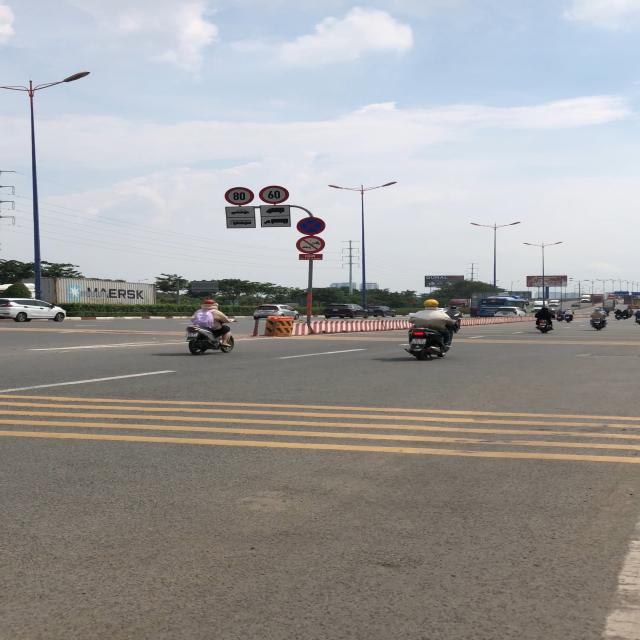Bien bao cam dung xe va do xe: (292, 216, 328, 236)
Bien bao toc do toi da cho phep: (222, 185, 257, 206), (255, 184, 290, 204)
